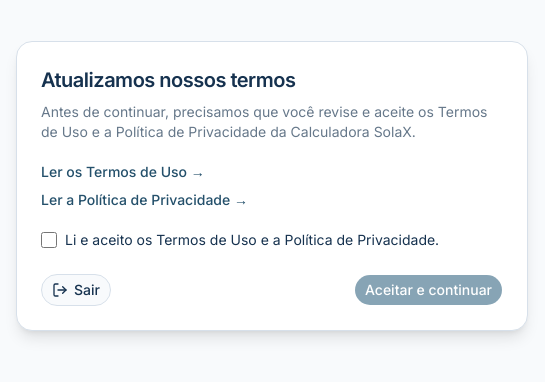
it: TermsAcceptanceForm › shows the Supabase error message when saving acceptance fails
What coordinates should you click on to do the following:
click the checkbox
I would click on:
 (49, 240)
Its box is [41,232,57,248].
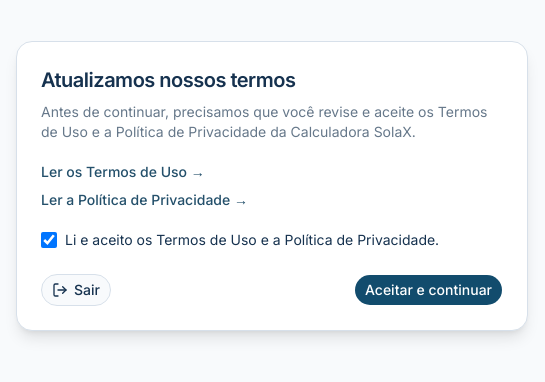
What coordinates should you click on to do the following:
click the button "Aceitar e continuar"
I would click on:
 (428, 290)
Its box is [354,274,503,306].
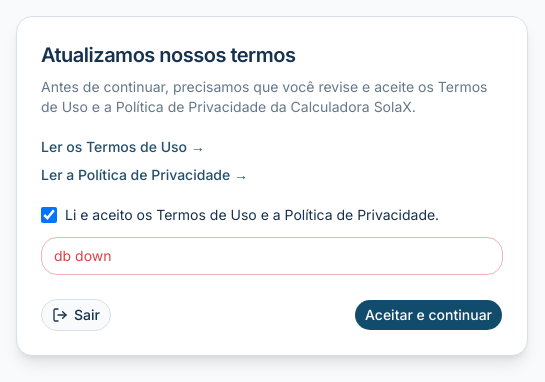
expect the message reads "db down": met, box [54,247,112,264]
